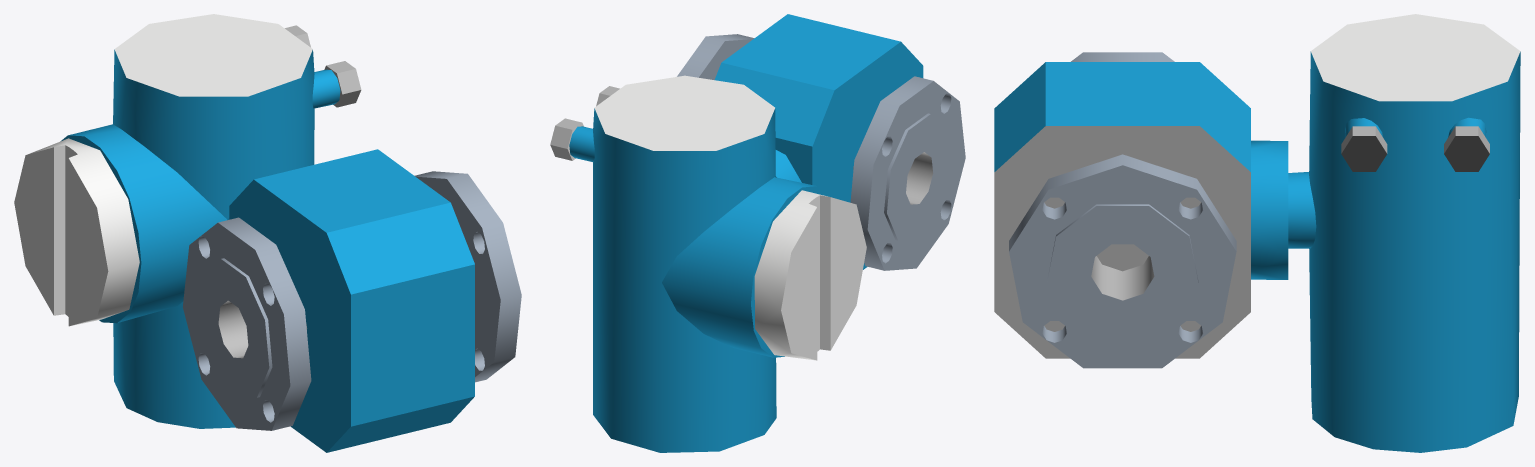
Rendered from Volumenstrom.obj.
3 renders of one model, left to right at view 1: azimuth 30°, elevation 25°; view 2: azimuth 150°, elevation 25°; view 3: azimuth 270°, elevation 25°, orthographic. The views are drawn at different scales.
Parts seen in each view (by area): view 1: Volumenkörper1; view 2: Volumenkörper1; view 3: Volumenkörper1.
Part boxes in pixels (x1,y1,x2,y2): Volumenkörper1: [14, 14, 521, 452]; Volumenkörper1: [550, 14, 965, 452]; Volumenkörper1: [994, 14, 1520, 452].
Bounding box in the file's own units: 0.3277 × 0.381 × 0.5206.
